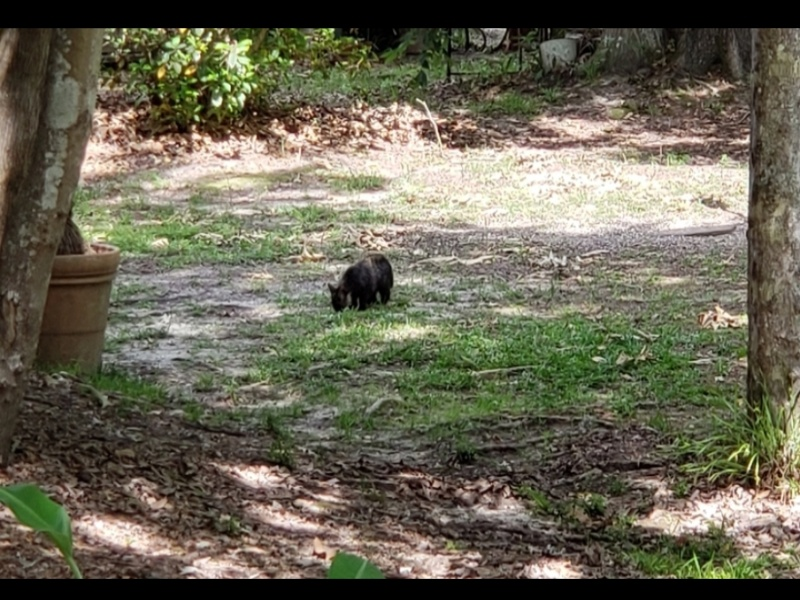cat: (327, 251, 399, 314)
